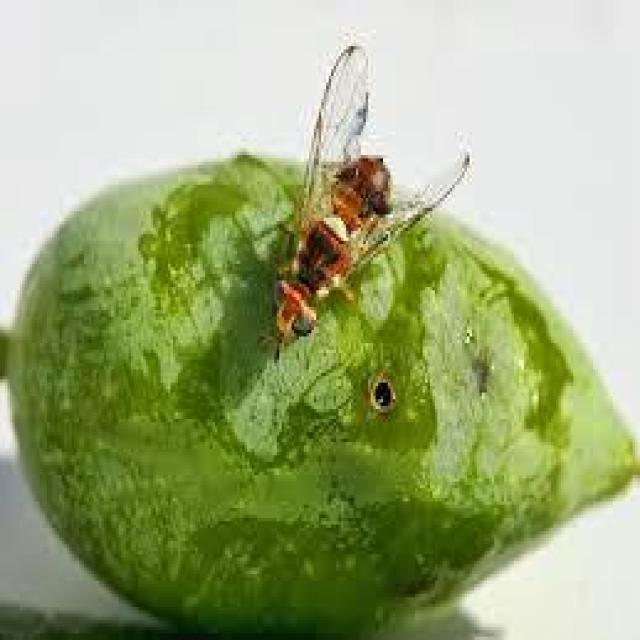Olive Fruit Fly: (15, 43, 638, 630)
